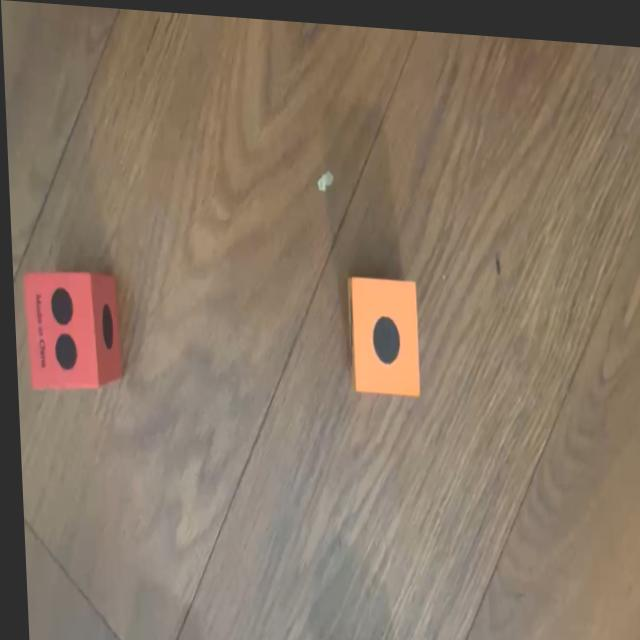red_block: (21, 268, 119, 393)
